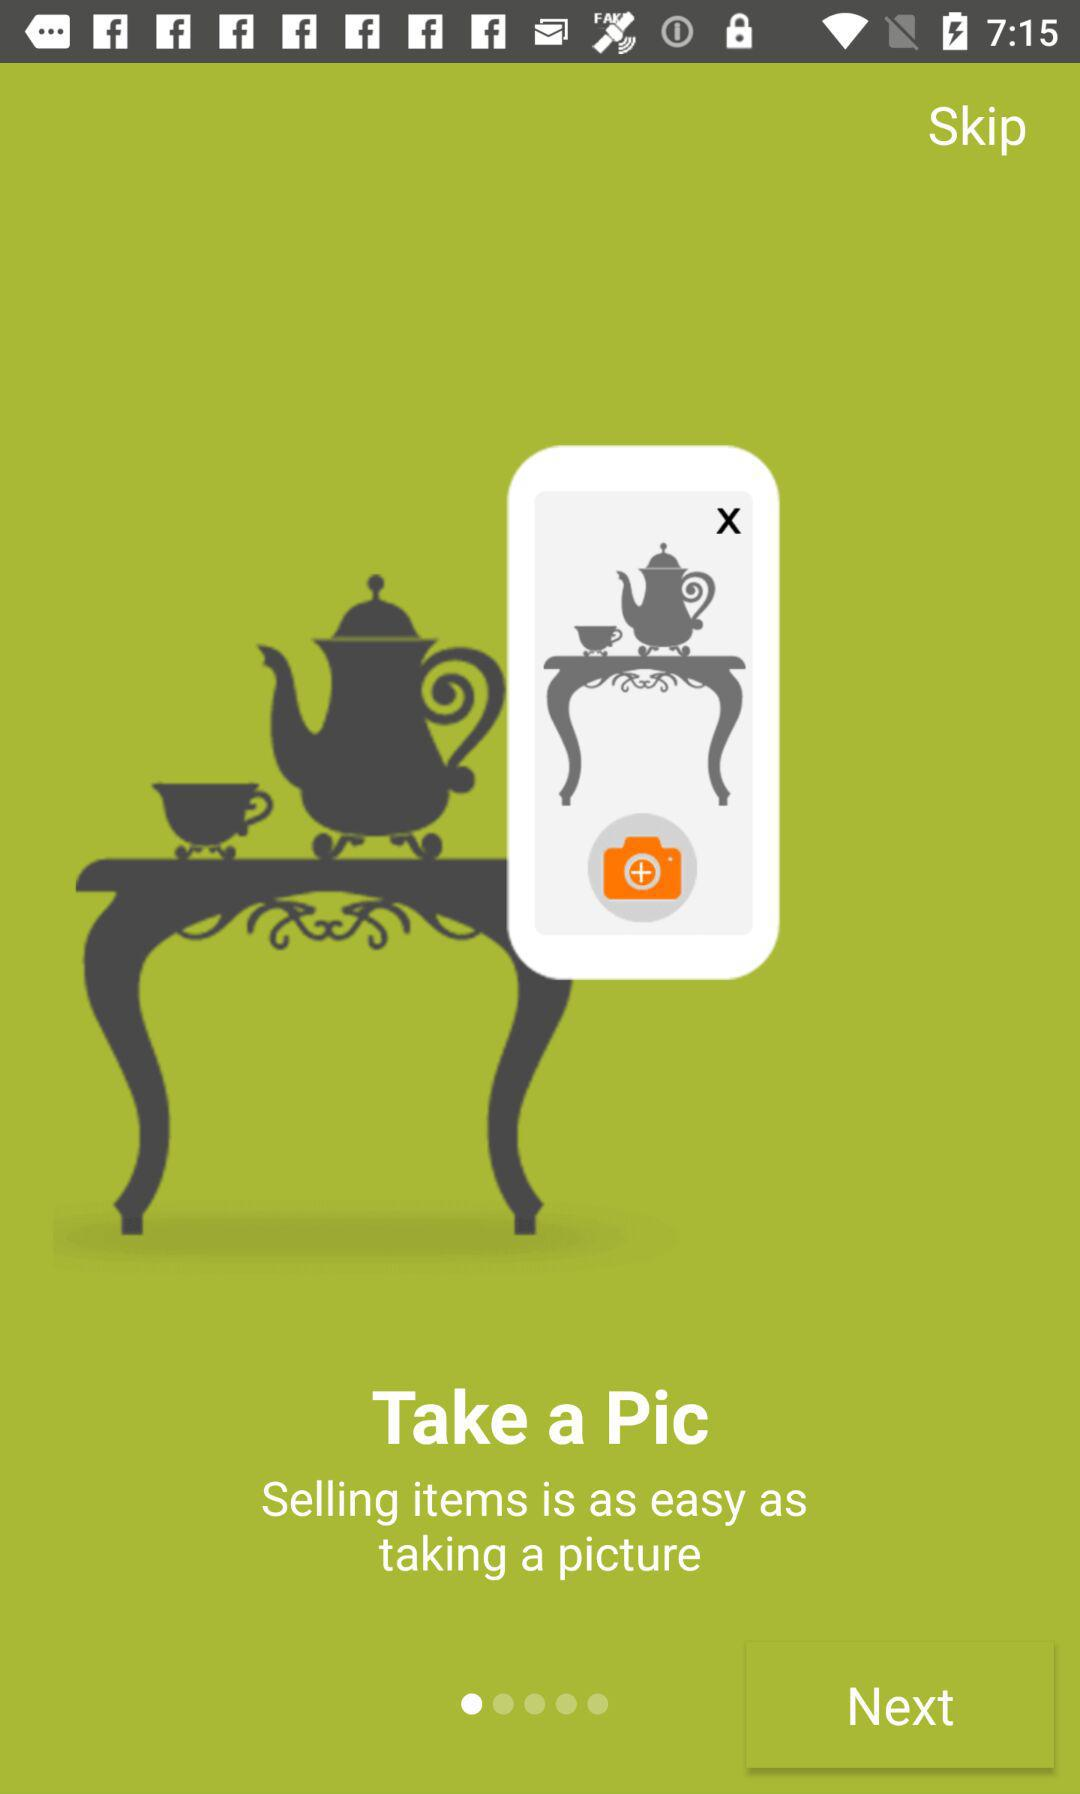Image: (76, 443, 781, 1237)
PageIndicator: (460, 1691, 610, 1717)
Text: (263, 1479, 808, 1583), (372, 1387, 708, 1445), (929, 104, 1026, 158)
TextButton: (746, 1642, 1054, 1768)
UpperTaskBar: (1, 1, 1080, 64)
